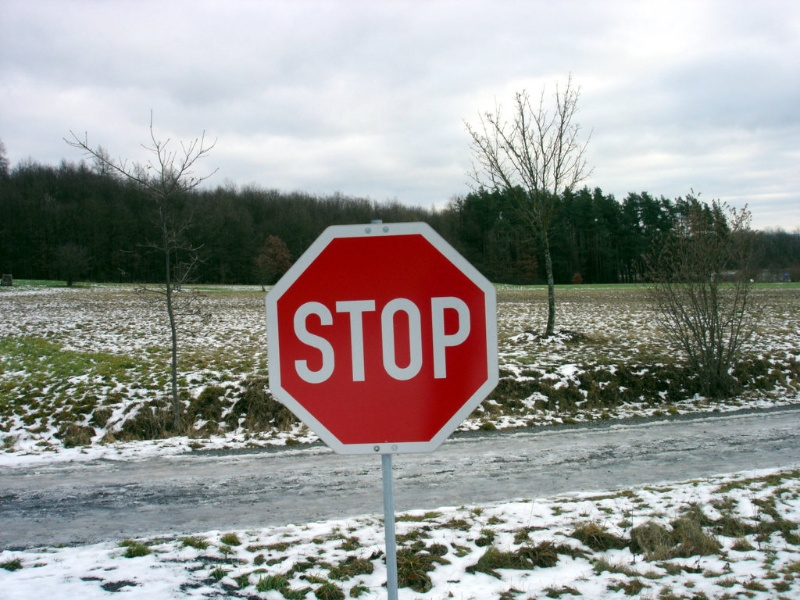stop: (252, 213, 507, 463)
